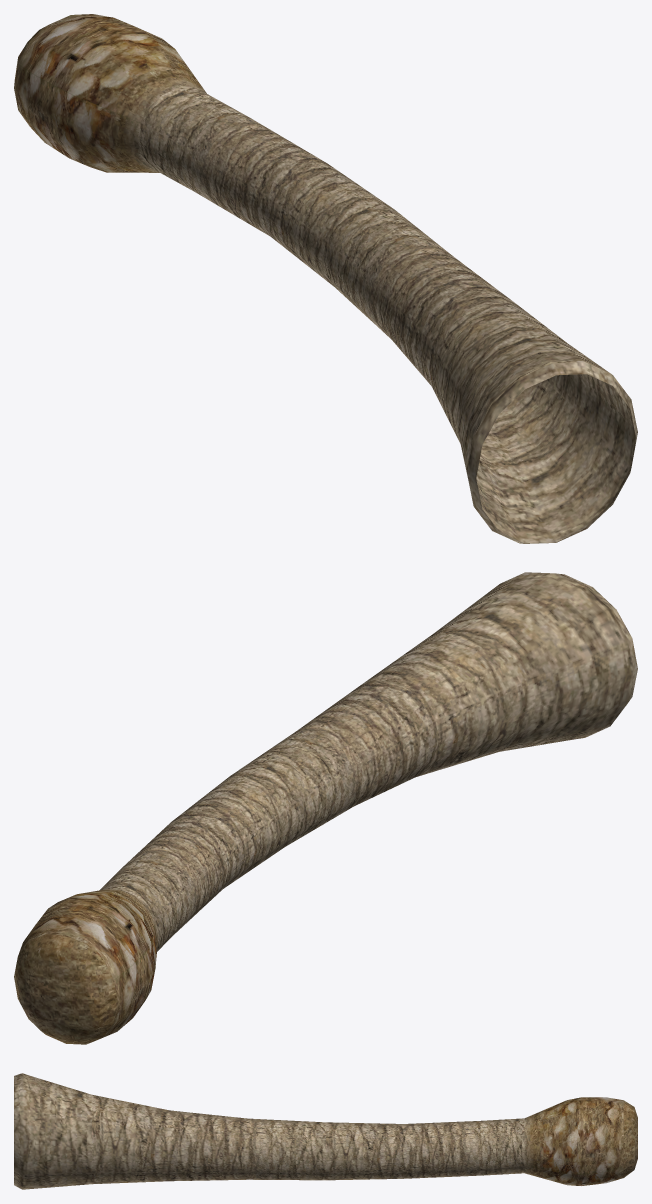
The model's file is TreePalm000.obj.
The picture shows the model from 3 angles, top to bottom: view 1: azimuth 30°, elevation 25°; view 2: azimuth 150°, elevation 25°; view 3: azimuth 270°, elevation 25°; orthographic projection. The views are drawn at different scales.
Parts seen in each view (by area): view 1: pCube1__TreeABodyMat00, pCube1__TreePalmLeaf; view 2: pCube1__TreeABodyMat00, pCube1__TreePalmLeaf; view 3: pCube1__TreeABodyMat00, pCube1__TreePalmLeaf.
Part boxes in pixels (x1,y1,x2,y2): pCube1__TreeABodyMat00: [137, 87, 637, 543]; pCube1__TreePalmLeaf: [14, 14, 206, 172]; pCube1__TreeABodyMat00: [100, 572, 637, 951]; pCube1__TreePalmLeaf: [14, 889, 158, 1044]; pCube1__TreeABodyMat00: [14, 1073, 524, 1189]; pCube1__TreePalmLeaf: [524, 1097, 637, 1185].
Size of the model in its own units: 237 by 206 by 1100.
Materials: 3 (2 with a texture image).
